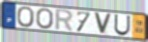7: (75, 10, 92, 33)
O: (35, 7, 54, 30), (16, 6, 35, 29)
R: (54, 8, 75, 33)
U: (113, 14, 132, 37)
V: (93, 12, 113, 36)
